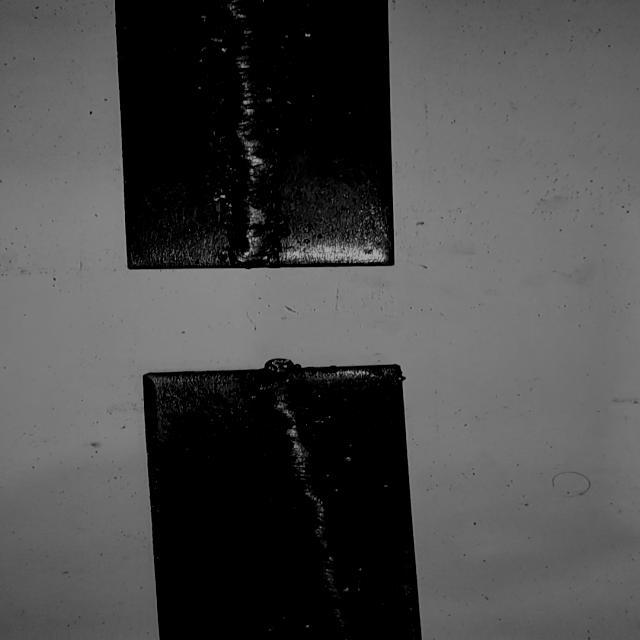Defect: (186, 0, 311, 46)
Welding Line: (249, 374, 363, 640), (207, 0, 283, 261)
Workpiece: (142, 359, 426, 640), (112, 0, 396, 271)
